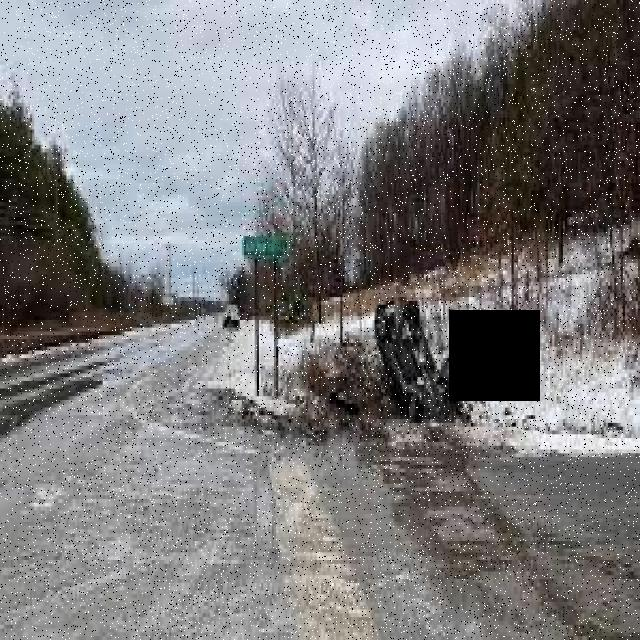severe: (369, 288, 457, 422)
